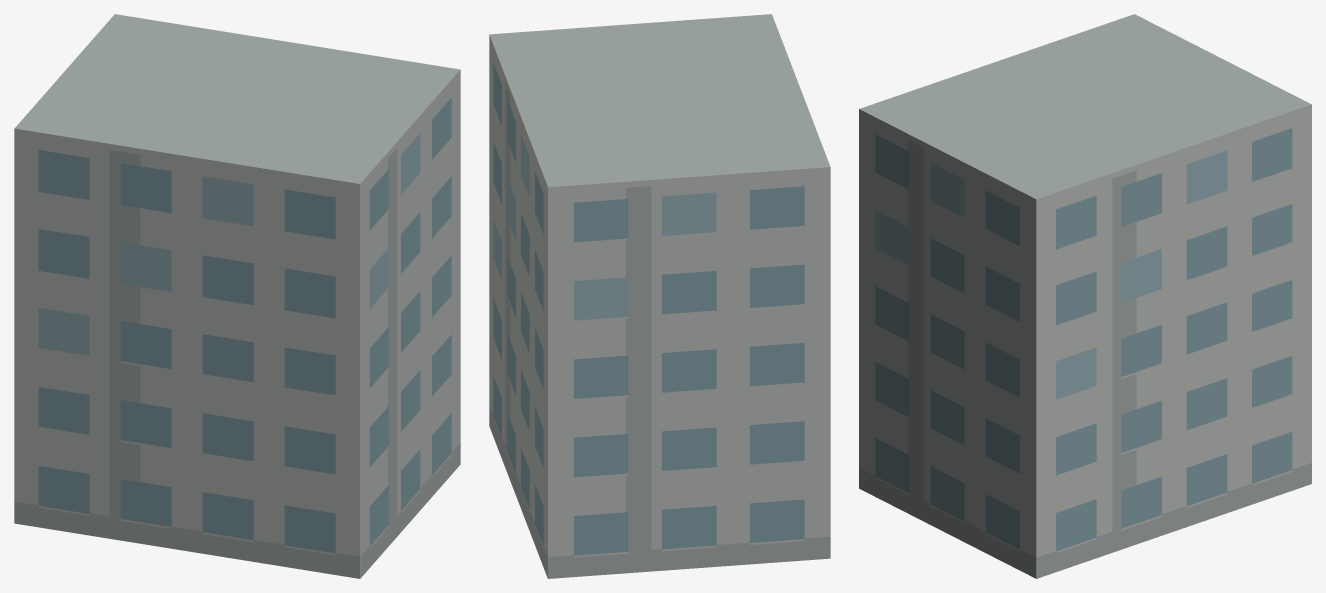
The model's file is survey-upis-32844838.glb.
3 renders of one model, left to right at view 1: azimuth 30°, elevation 25°; view 2: azimuth 150°, elevation 25°; view 3: azimuth 270°, elevation 25°, orthographic. The views are drawn at different scales.
Visible parts, largest first — view 1: survey-upis-32844838.tmp; view 2: survey-upis-32844838.tmp; view 3: survey-upis-32844838.tmp.
Part boxes in pixels (box(x1,y1,x2,y2)): survey-upis-32844838.tmp: box(14, 14, 460, 578); survey-upis-32844838.tmp: box(489, 14, 830, 578); survey-upis-32844838.tmp: box(859, 14, 1311, 578).
Bounding box in the file's own units: 16.76 × 16 × 17.31.
